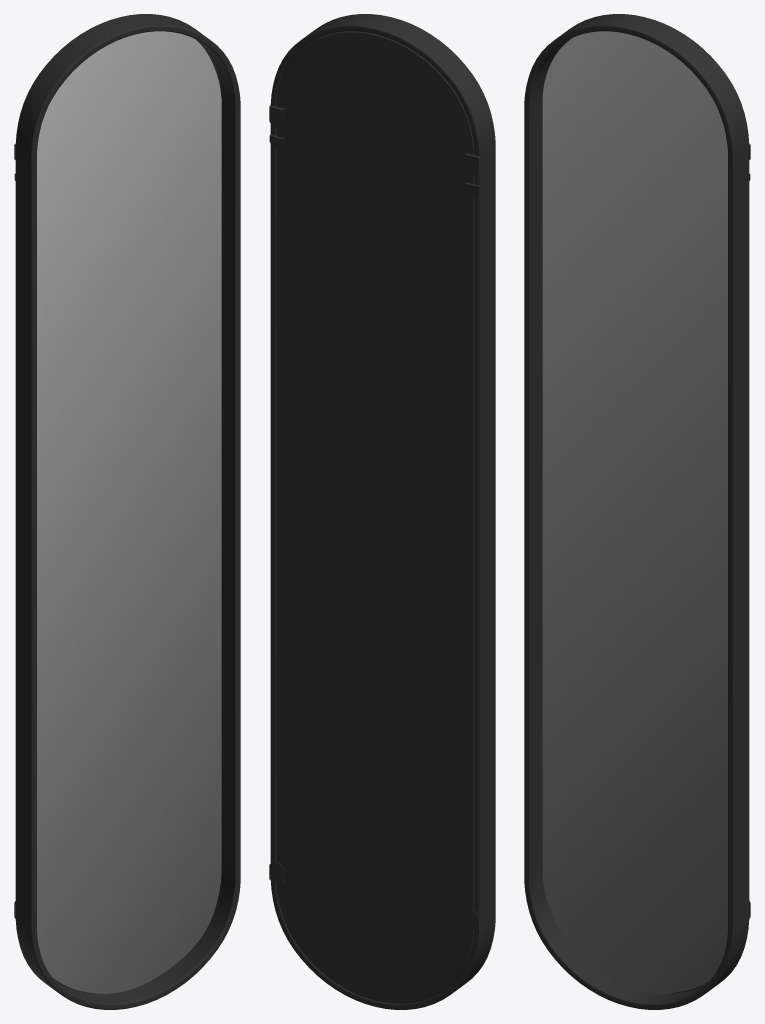
3 views of the same model, side by side, from view 1: azimuth 30°, elevation 25°; view 2: azimuth 150°, elevation 25°; view 3: azimuth 330°, elevation 25° (orthographic).
Visible parts, largest first — view 1: RootNode; view 2: RootNode; view 3: RootNode.
Boxes of the visible parts, box(x1,y1,x2,y2) form: RootNode: box(14, 14, 240, 1009); RootNode: box(269, 14, 495, 1009); RootNode: box(524, 14, 750, 1009).
Size of the model in its own units: 0.2222 by 0.9906 by 0.0318.
1 material, 1 textured.
